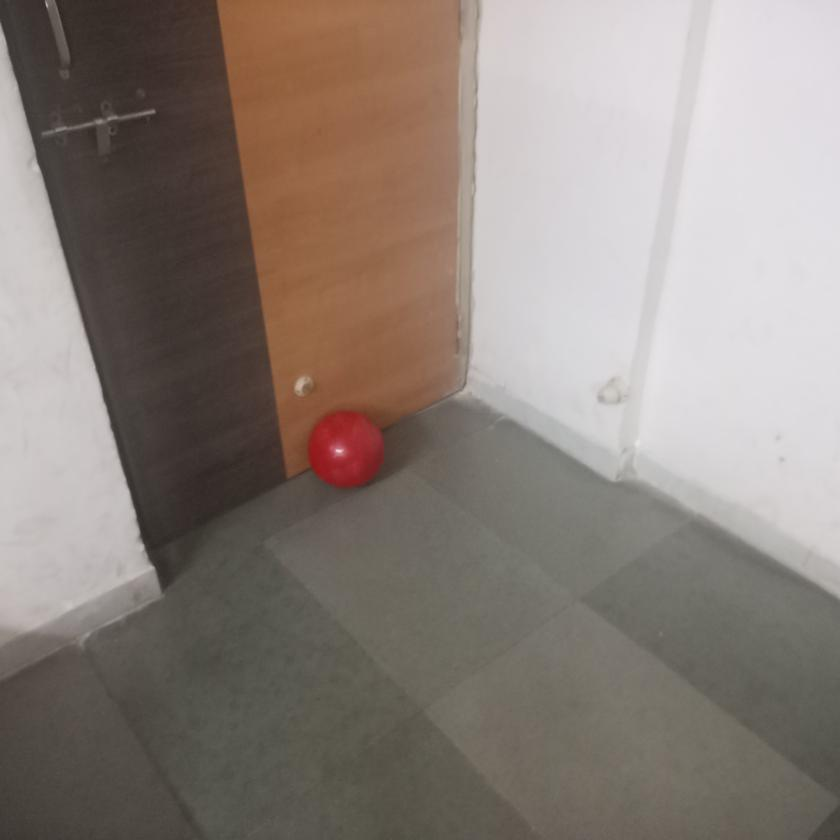Red_Ball: (305, 408, 391, 489)
